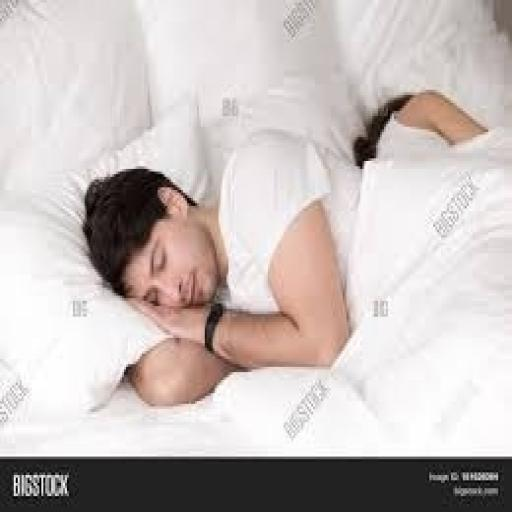sleeping: (79, 85, 492, 409)
